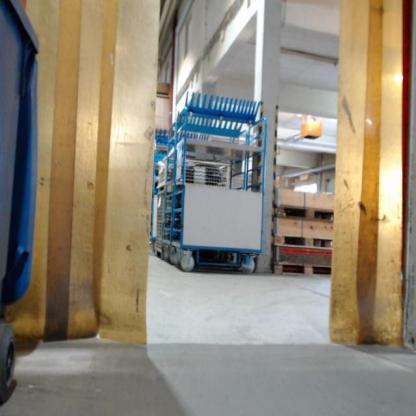pallet: (273, 203, 334, 223), (268, 260, 331, 277), (272, 234, 333, 251)
stillage: (158, 153, 231, 189), (153, 190, 166, 260)
